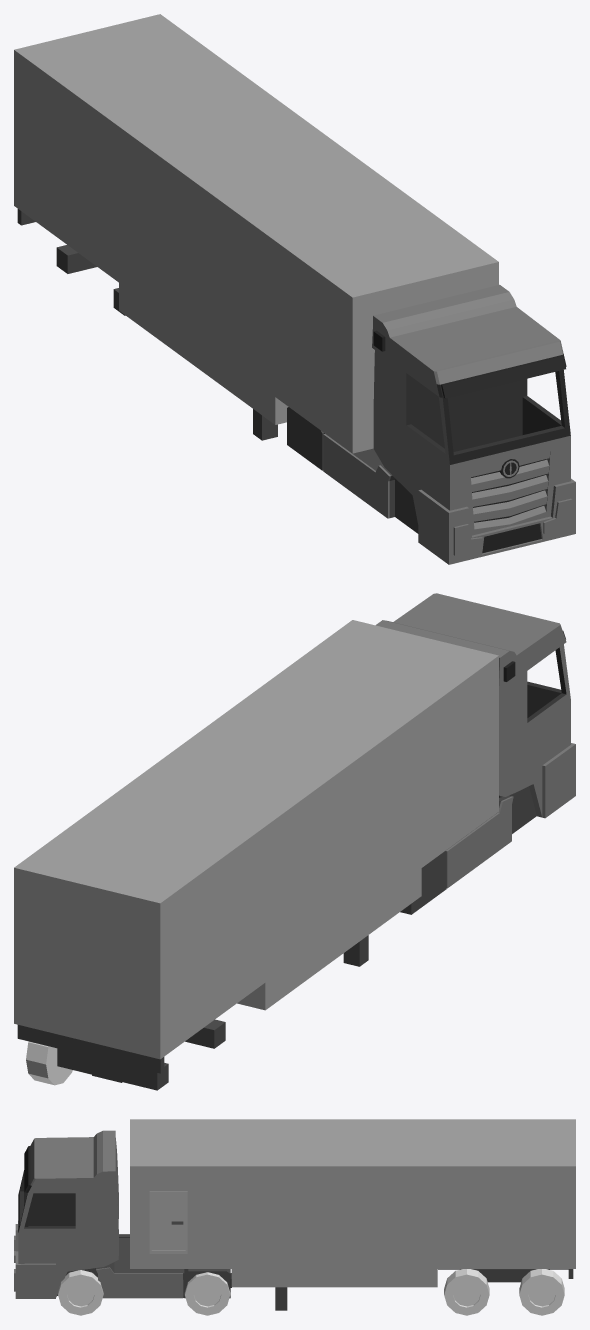
Rendered from Actros_trailer.fbx.
3 views of the same model, one above another, from view 1: azimuth 30°, elevation 25°; view 2: azimuth 150°, elevation 25°; view 3: azimuth 270°, elevation 25° (orthographic). The views are drawn at different scales.
Visible parts, largest first — view 1: Cube.003, Cube; view 2: Cube.003, Cube, Model_0.002; view 3: Cube.003, Cube, Model_0.003, Model_0.002, Model_0.000, Model_0.001.
Part boxes in pixels (x1,y1,x2,y2): Cube.003: [14, 14, 498, 453]; Cube: [287, 284, 575, 564]; Cube.003: [14, 620, 498, 1090]; Cube: [376, 593, 575, 914]; Model_0.002: [26, 1041, 72, 1085]; Cube.003: [130, 1119, 575, 1303]; Cube: [14, 1130, 231, 1298]; Model_0.003: [444, 1269, 489, 1315]; Model_0.002: [519, 1269, 564, 1315]; Model_0.000: [58, 1270, 103, 1315]; Model_0.001: [184, 1272, 230, 1315].
Bounding box in the file's own units: 299 × 442 × 1495.
